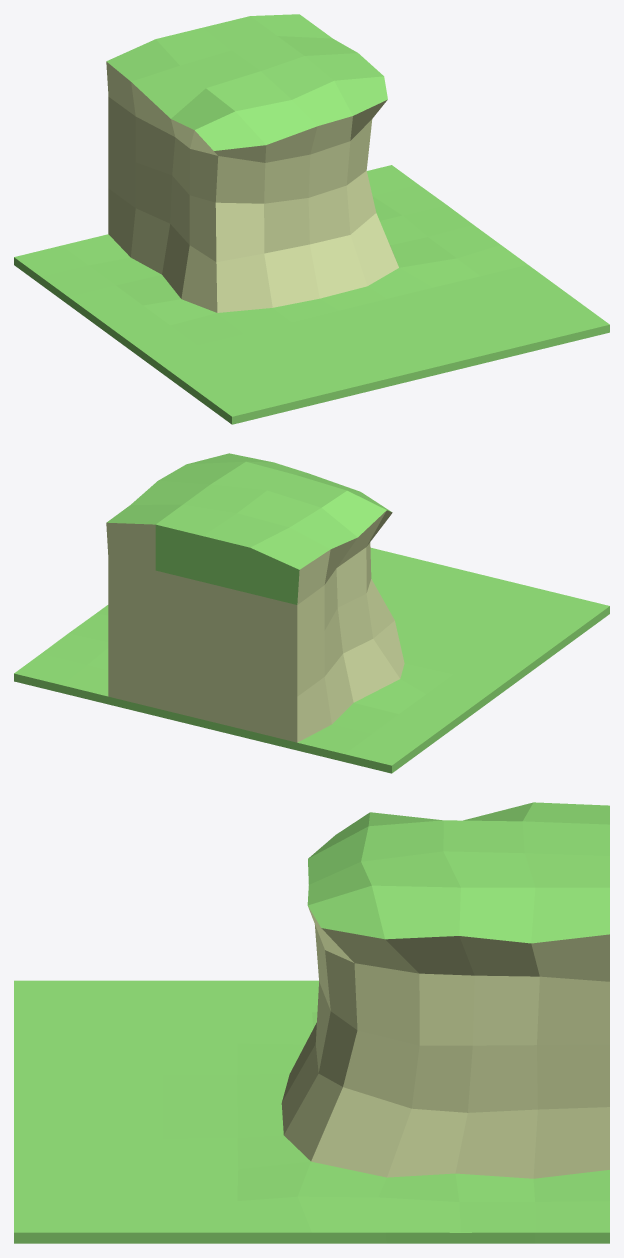
The model's file is wall_slim_tip_1.glb.
3 views of the same model, one above another, from view 1: azimuth 30°, elevation 25°; view 2: azimuth 150°, elevation 25°; view 3: azimuth 270°, elevation 25° (orthographic). The views are drawn at different scales.
Parts seen in each view (by area): view 1: wall_slim_tip_1; view 2: wall_slim_tip_1; view 3: wall_slim_tip_1.
Part boxes in pixels (x1=…): wall_slim_tip_1: x1=14, y1=14, x2=609, y2=424; wall_slim_tip_1: x1=14, y1=453, x2=609, y2=773; wall_slim_tip_1: x1=14, y1=802, x2=609, y2=1243.
Bounding box in the file's own units: 2 × 0.9775 × 2.
